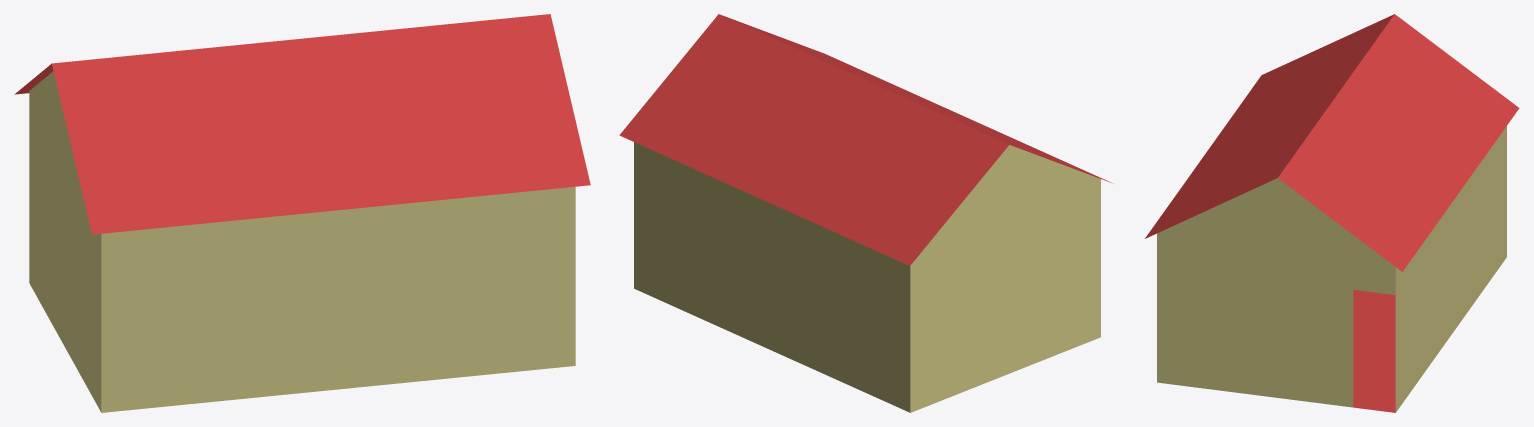
3 renders of one model, left to right at view 1: azimuth 30°, elevation 25°; view 2: azimuth 150°, elevation 25°; view 3: azimuth 270°, elevation 25°, orthographic. The views are drawn at different scales.
Size of the model in its own units: 23.28 by 18.74 by 12.37.
